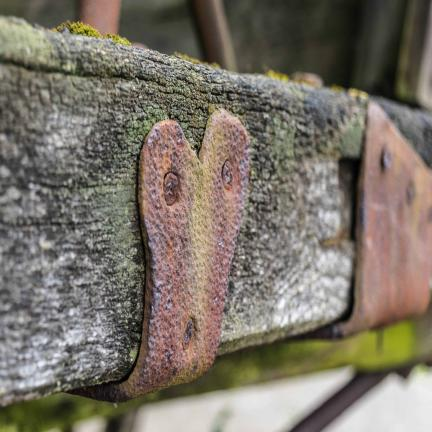karat: (85, 109, 250, 402)
